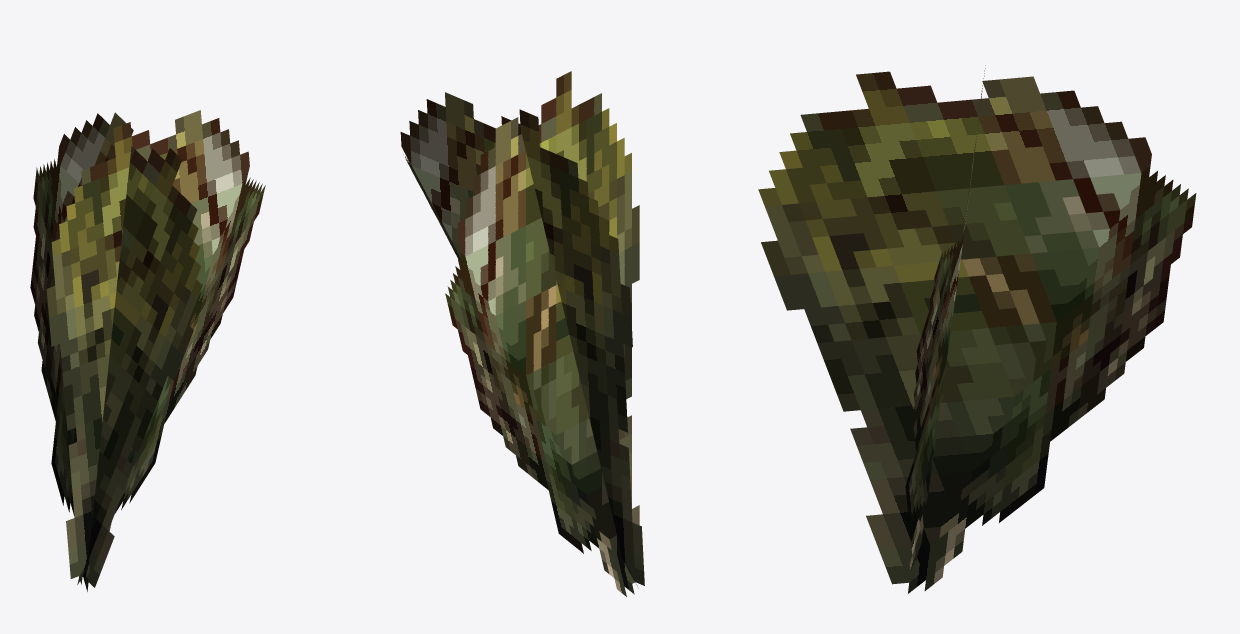
File: succ_lok_hairmay_cactus_a1_l2.fbx
3 renders of one model, left to right at view 1: azimuth 30°, elevation 25°; view 2: azimuth 150°, elevation 25°; view 3: azimuth 270°, elevation 25°, orthographic. The views are drawn at different scales.
Parts seen in each view (by area): view 1: mesh_node; view 2: mesh_node; view 3: mesh_node.
Boxes of the visible parts, x1=… form: mesh_node: x1=30, y1=110, x2=265, y2=591; mesh_node: x1=400, y1=71, x2=644, y2=596; mesh_node: x1=758, y1=65, x2=1196, y2=593.
Size of the model in its own units: 1.13 by 1.99 by 1.49.
